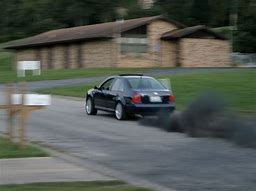smoke: (142, 93, 256, 145)
